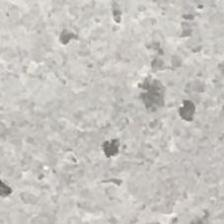Non_Crack: (32, 53, 223, 189)
